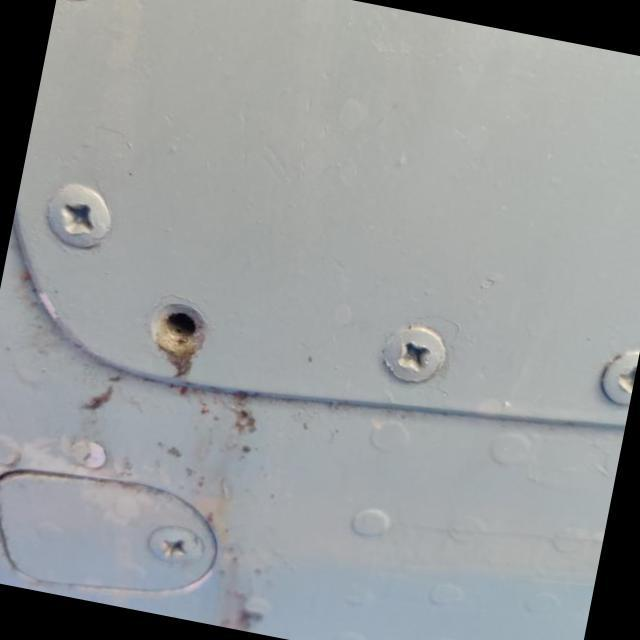Fastener Damage: (110, 264, 248, 398)
